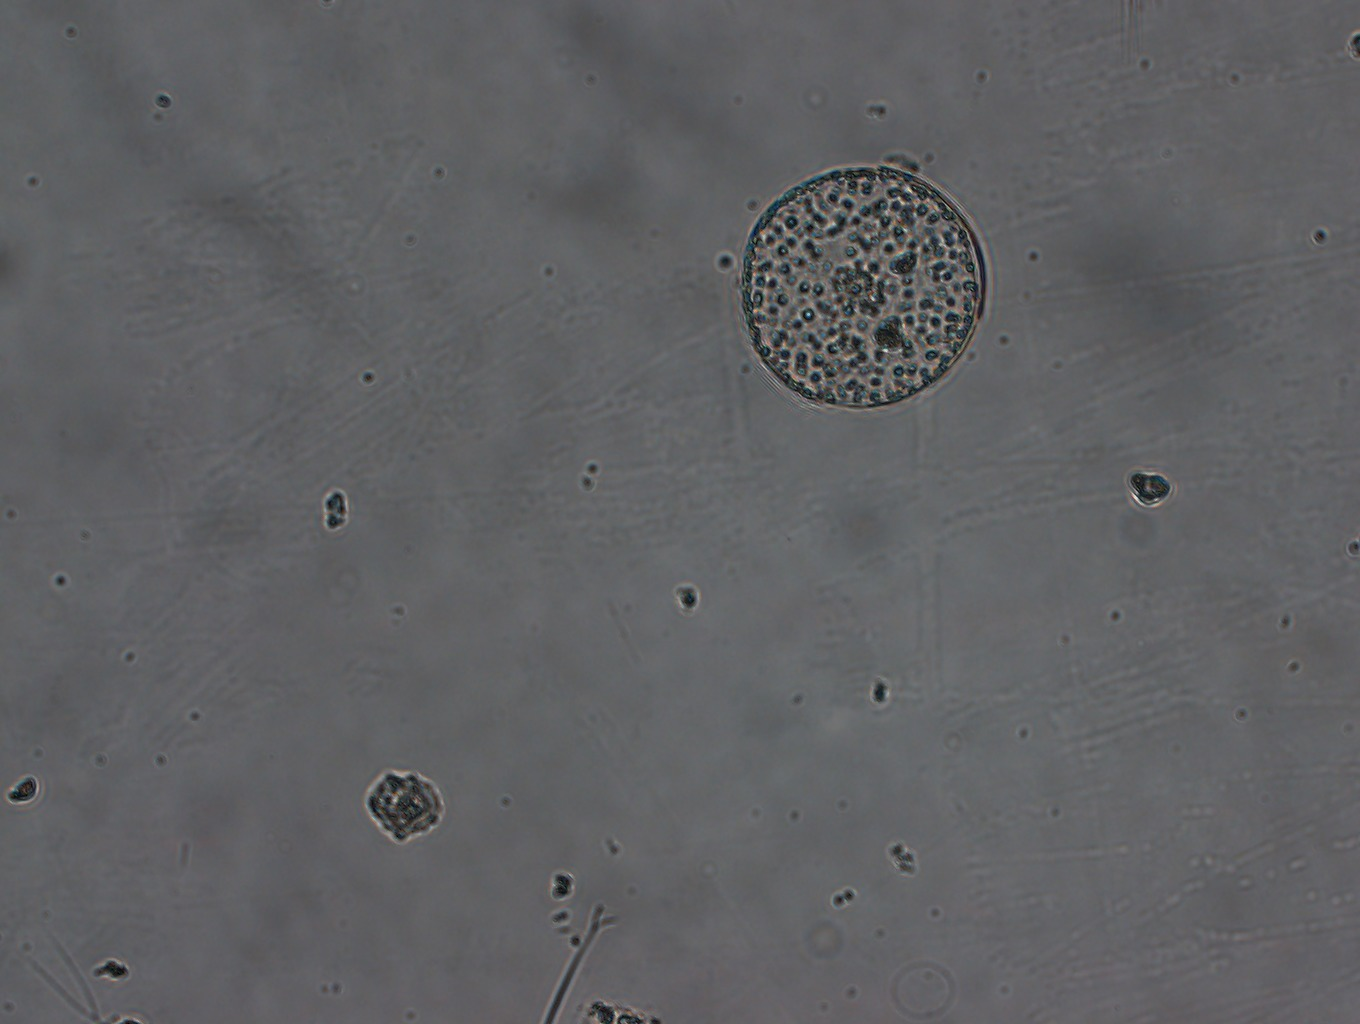coscinodiscus: (736, 160, 994, 416)
